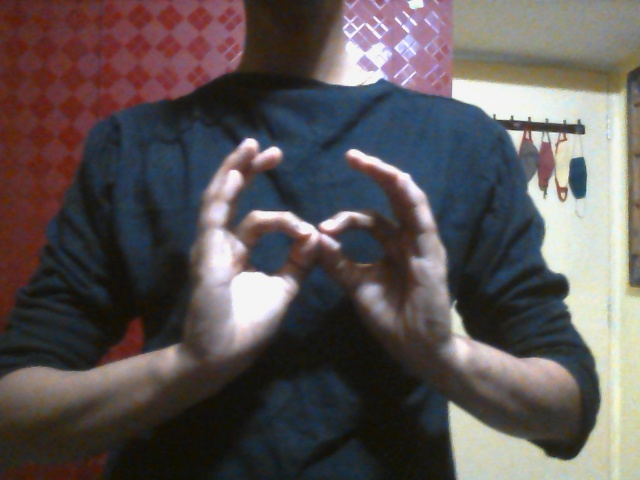B: (182, 136, 453, 384)
